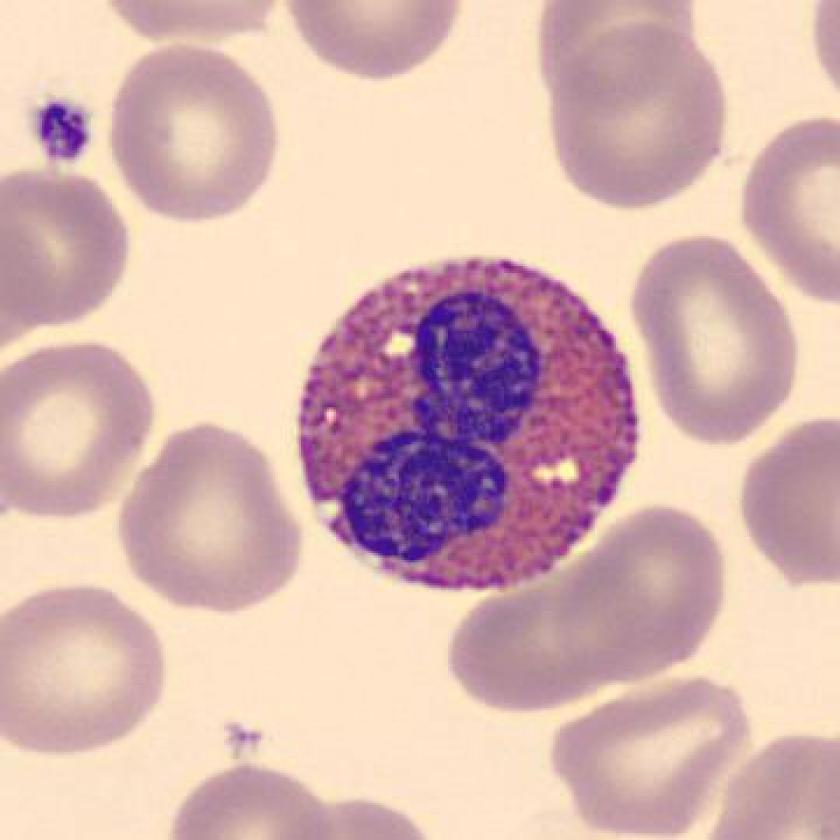eosinophil: (274, 244, 654, 605)
